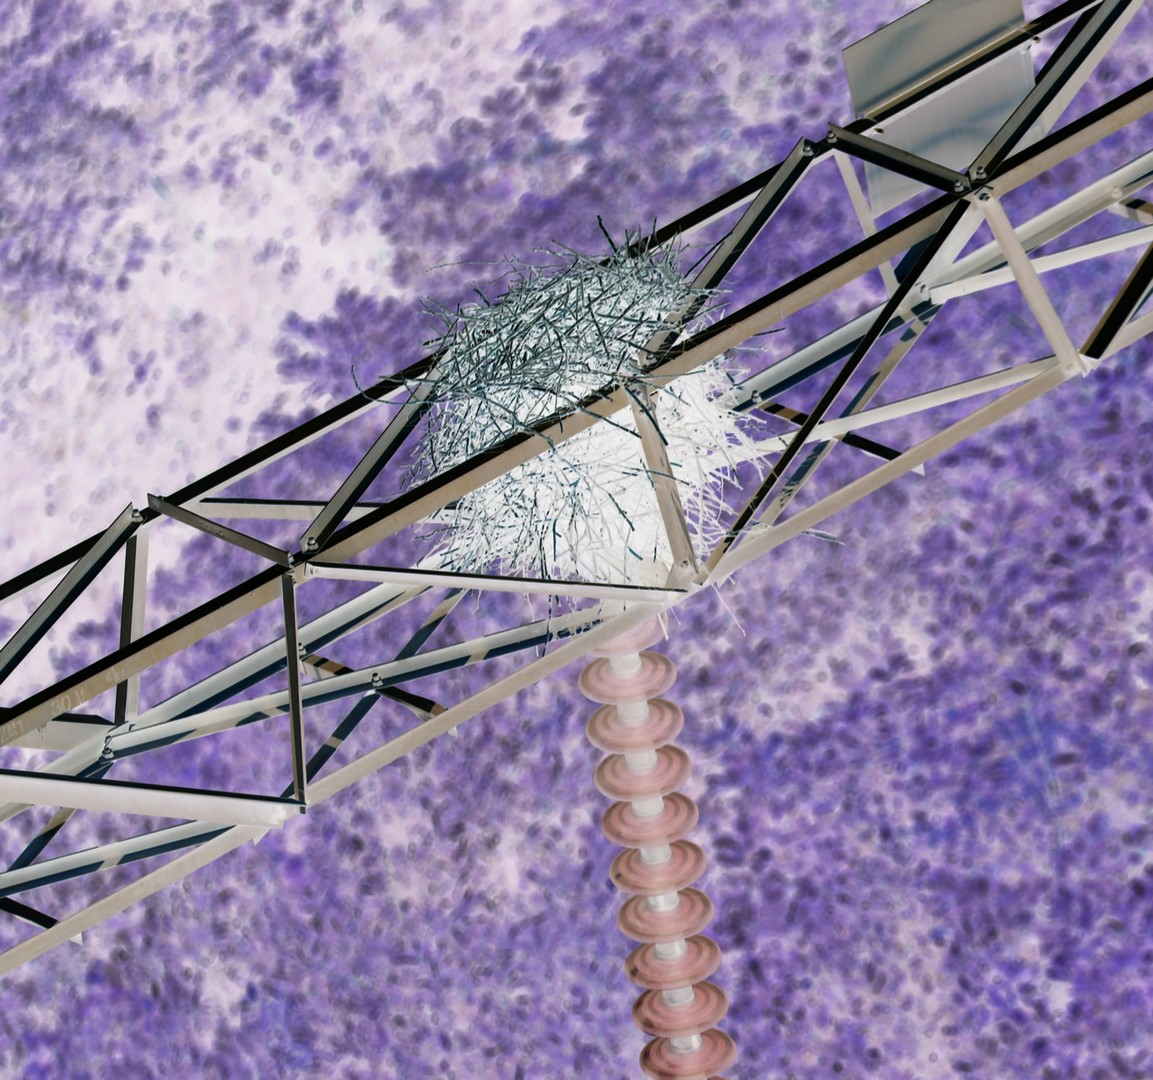niaowo: (393, 237, 791, 589)
